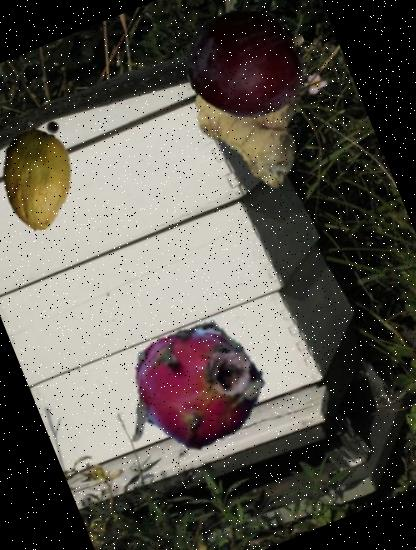Ginger: (169, 45, 337, 213)
Papaya: (0, 116, 97, 242)
Pitahaya: (112, 298, 286, 472)
Plum: (167, 0, 326, 141)
